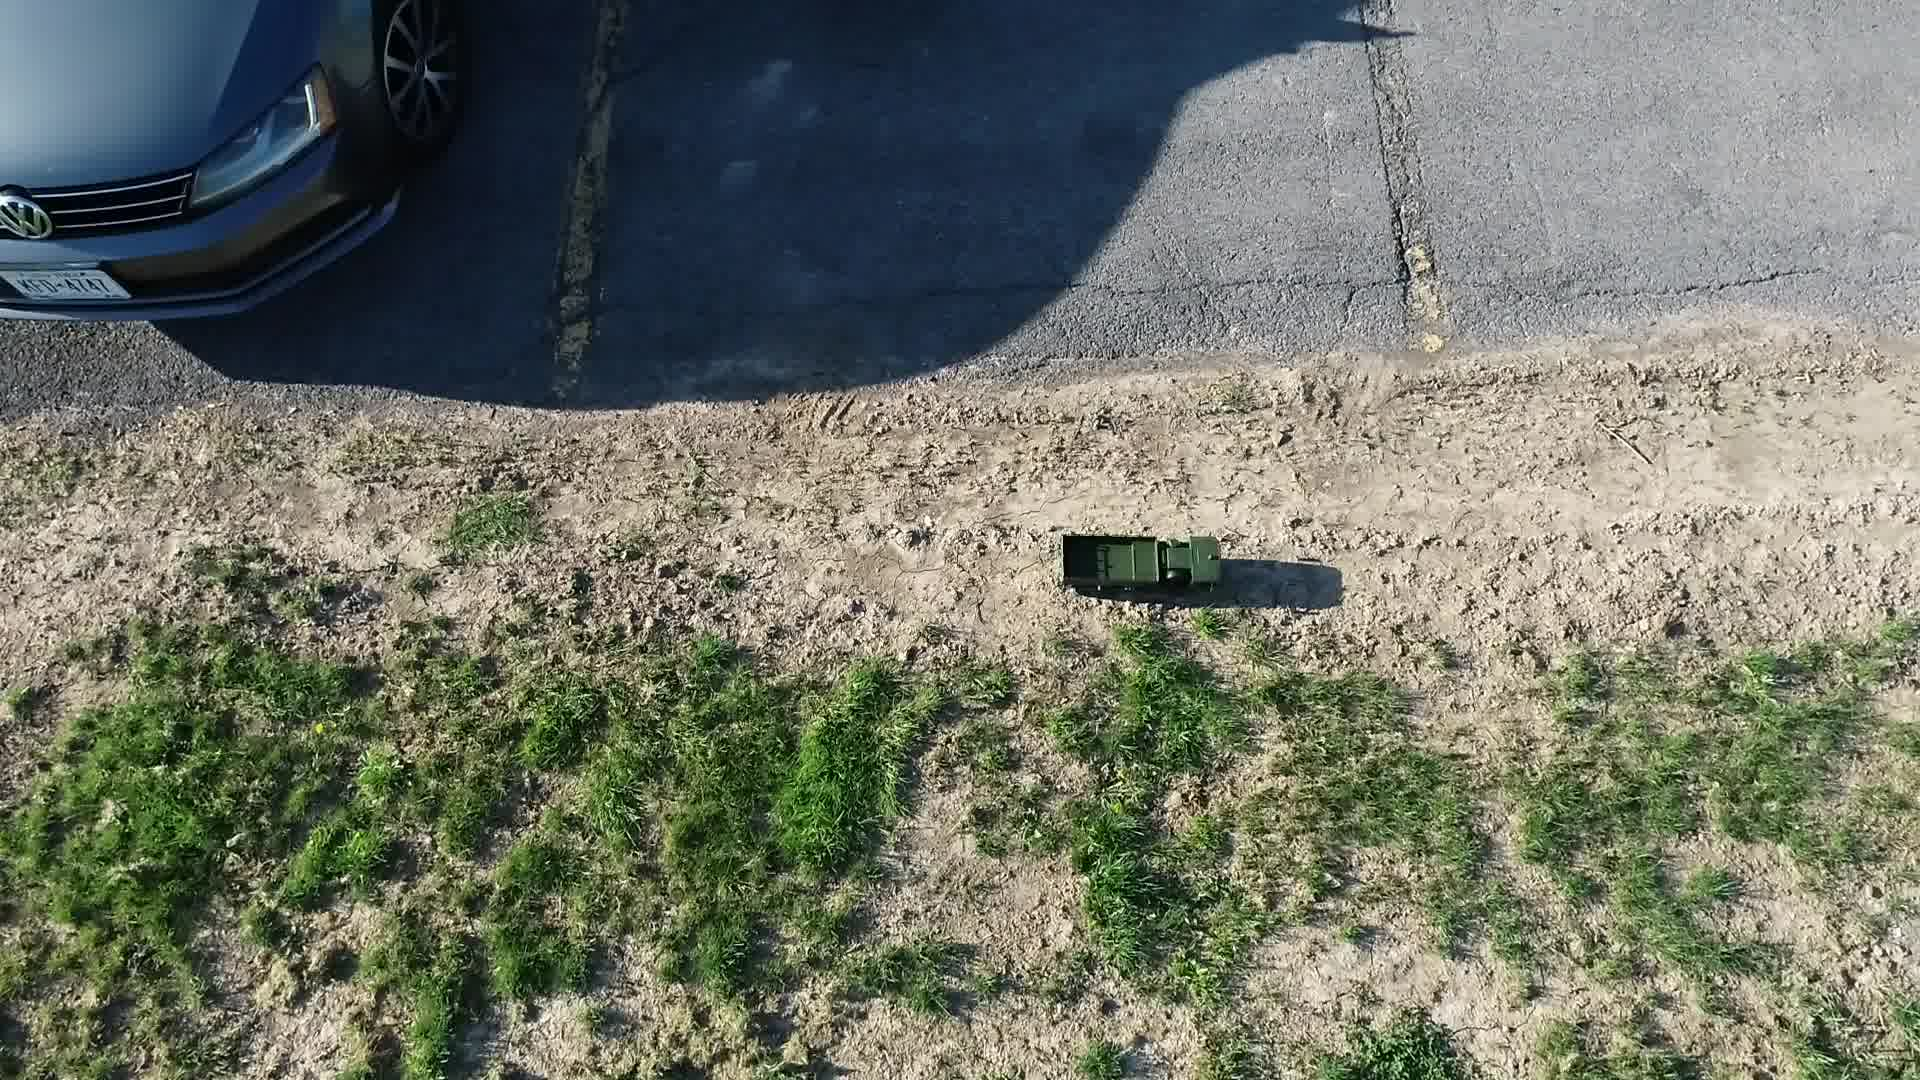transporter9: (1055, 527, 1232, 611)
